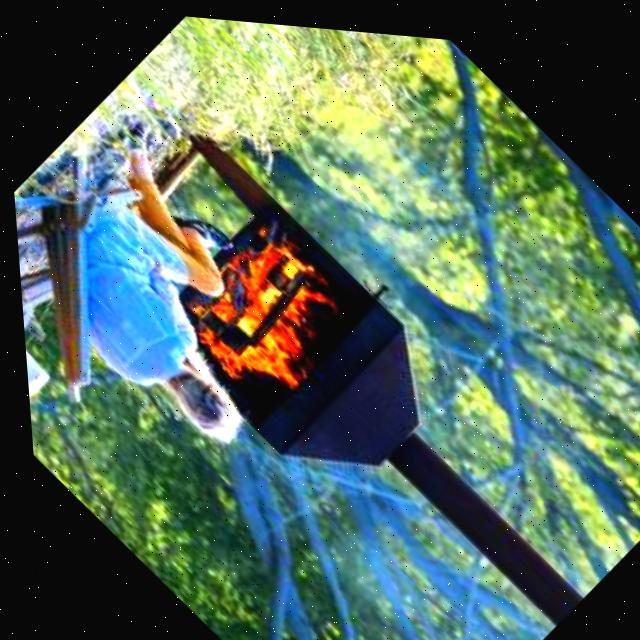Fire: (146, 197, 375, 428)
